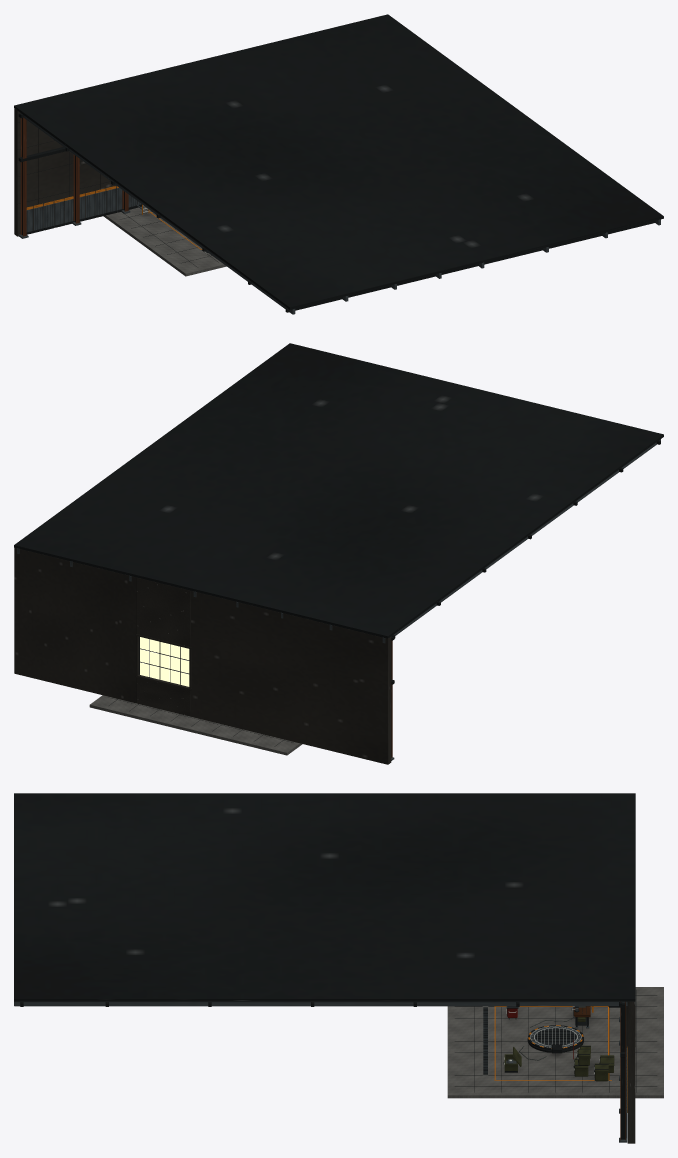
Rendered from workshop.glb.
3 renders of one model, top to bottom at view 1: azimuth 30°, elevation 25°; view 2: azimuth 150°, elevation 25°; view 3: azimuth 270°, elevation 25°, orthographic. The views are drawn at different scales.
Visible parts, largest first — view 1: WorkshopStaticMesh; view 2: WorkshopStaticMesh; view 3: WorkshopStaticMesh.
Boxes of the visible parts, bbox=[...] form: WorkshopStaticMesh: bbox=[14, 14, 663, 314]; WorkshopStaticMesh: bbox=[14, 343, 663, 764]; WorkshopStaticMesh: bbox=[14, 793, 663, 1143].
Size of the model in its own units: 36 by 12.1 by 48.1.
Materials: 15 (10 with a texture image).
